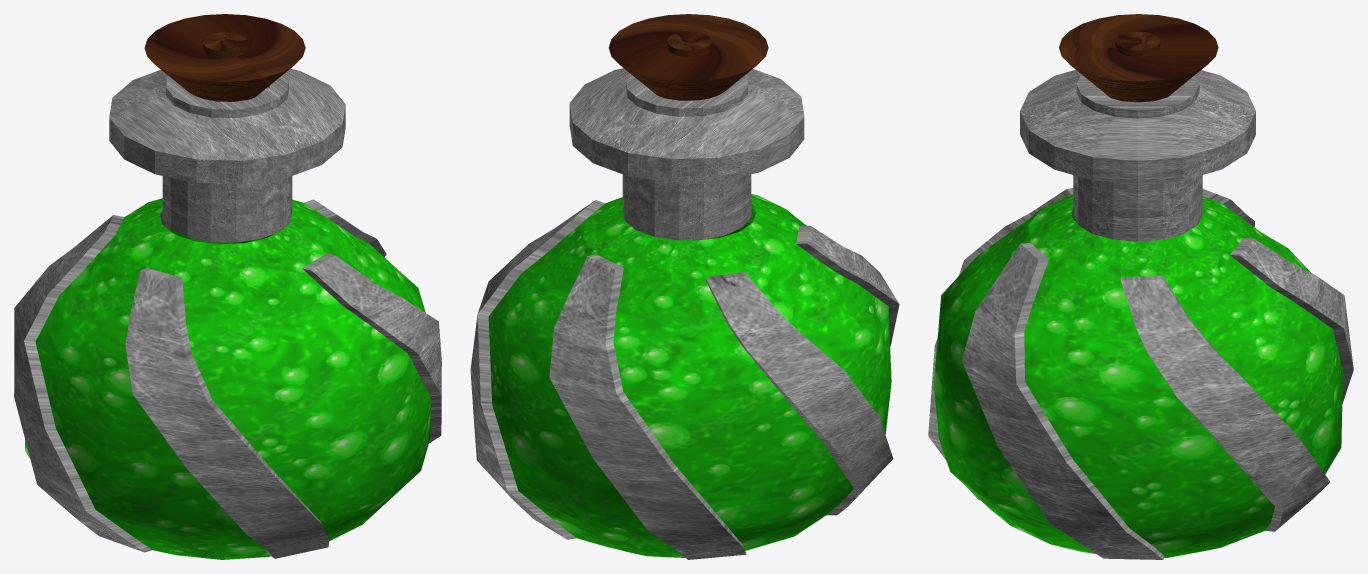
The model's file is green potion.fbx.
3 renders of one model, left to right at view 1: azimuth 30°, elevation 25°; view 2: azimuth 150°, elevation 25°; view 3: azimuth 270°, elevation 25°, orthographic.
Visible parts, largest first — view 1: Cylinder001, Object001, Object002, Cone001, Cylinder002; view 2: Cylinder001, Object001, Object002, Cone001, Cylinder002; view 3: Cylinder001, Object001, Object002, Cone001, Cylinder002.
Part boxes in pixels (box(x1,y1,x2,y2)): Cylinder001: box(25, 198, 430, 559); Object001: box(14, 199, 441, 558); Object002: box(109, 69, 345, 242); Cone001: box(144, 14, 305, 101); Cylinder002: box(202, 32, 247, 57); Cylinder001: box(488, 194, 891, 557); Object001: box(470, 200, 899, 559); Object002: box(569, 68, 804, 240); Cone001: box(608, 14, 768, 100); Cylinder002: box(667, 31, 711, 56); Cylinder001: box(934, 194, 1342, 557); Object001: box(928, 188, 1353, 559); Object002: box(1020, 70, 1255, 241); Cone001: box(1059, 14, 1218, 102); Cylinder002: box(1115, 31, 1160, 56).
Bounding box in the file's own units: 80.4 × 79.8 × 96.29.
Materials: 3 (3 with a texture image).
